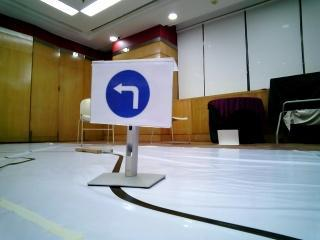left: (101, 66, 152, 124)
